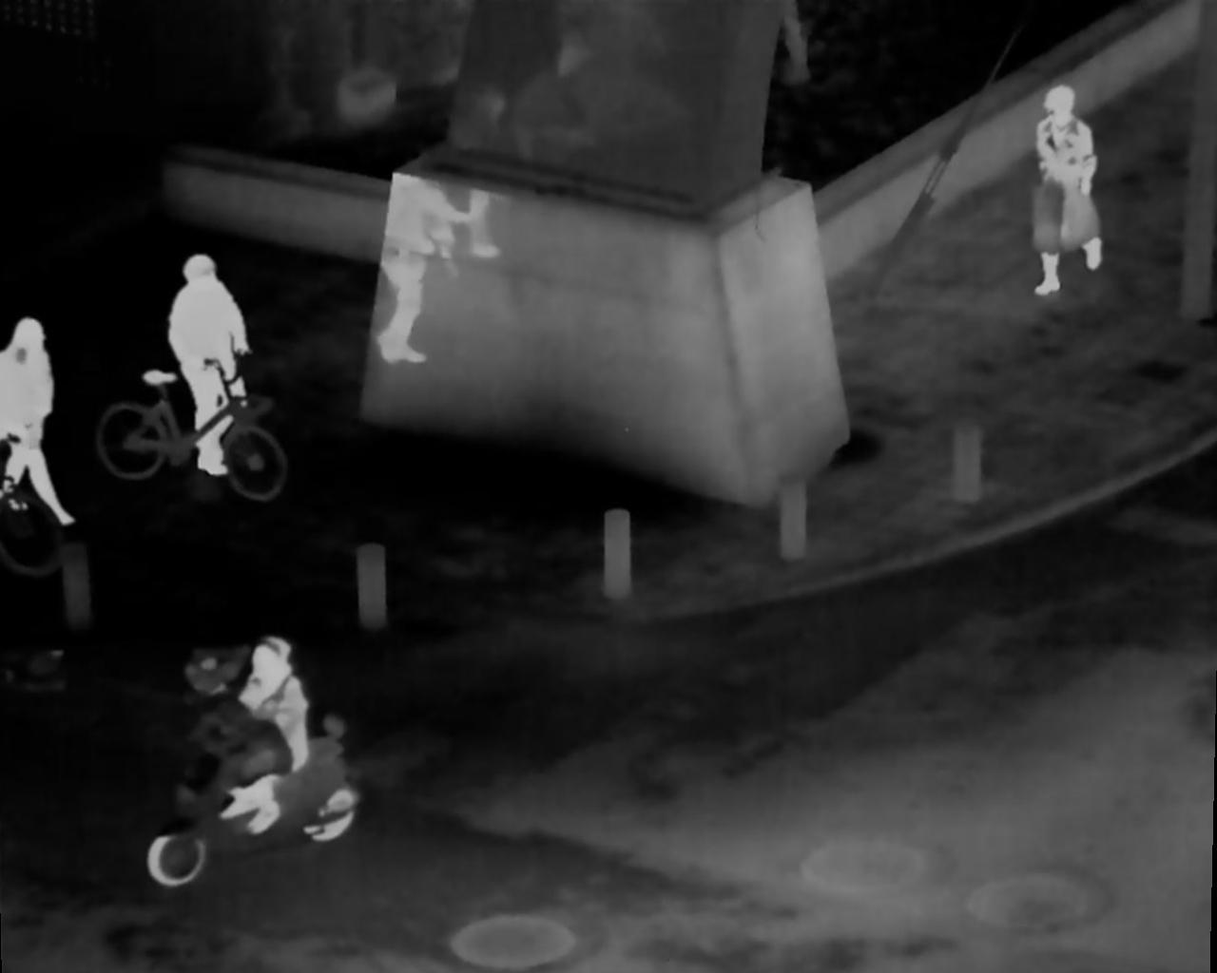person: (164, 250, 250, 474), (375, 165, 468, 364), (224, 637, 312, 844), (1033, 85, 1095, 296)
